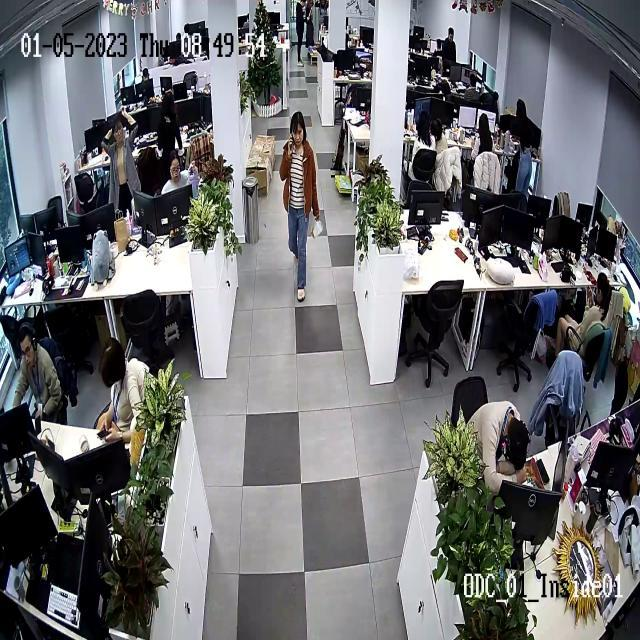person: (279, 111, 320, 303), (94, 338, 150, 443), (10, 323, 63, 421), (556, 274, 617, 358), (468, 401, 534, 476), (102, 113, 142, 215), (157, 84, 186, 187), (472, 113, 502, 194), (509, 99, 542, 154), (411, 109, 435, 174), (161, 151, 192, 197), (441, 26, 457, 70)
